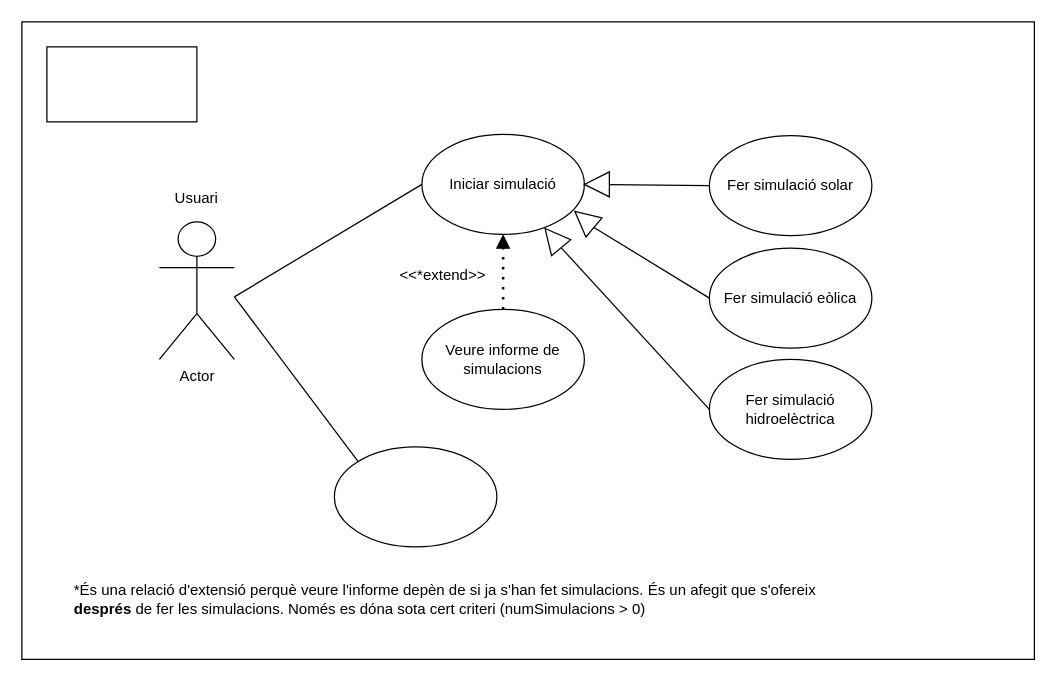
This 1056x681 diagram has some shape labels left out. Here are the shapes that lost their labels. From the top down, the centre of each, then its label:
[121,84]: Sistema Eco Energy
[415,496]: Sortir del sistema
